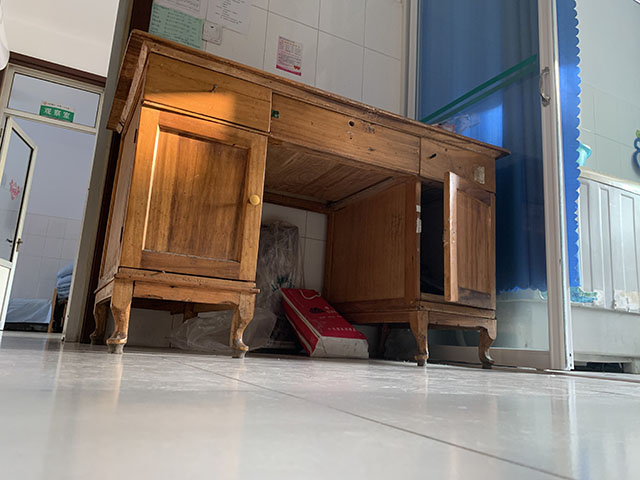table: (89, 27, 513, 370)
